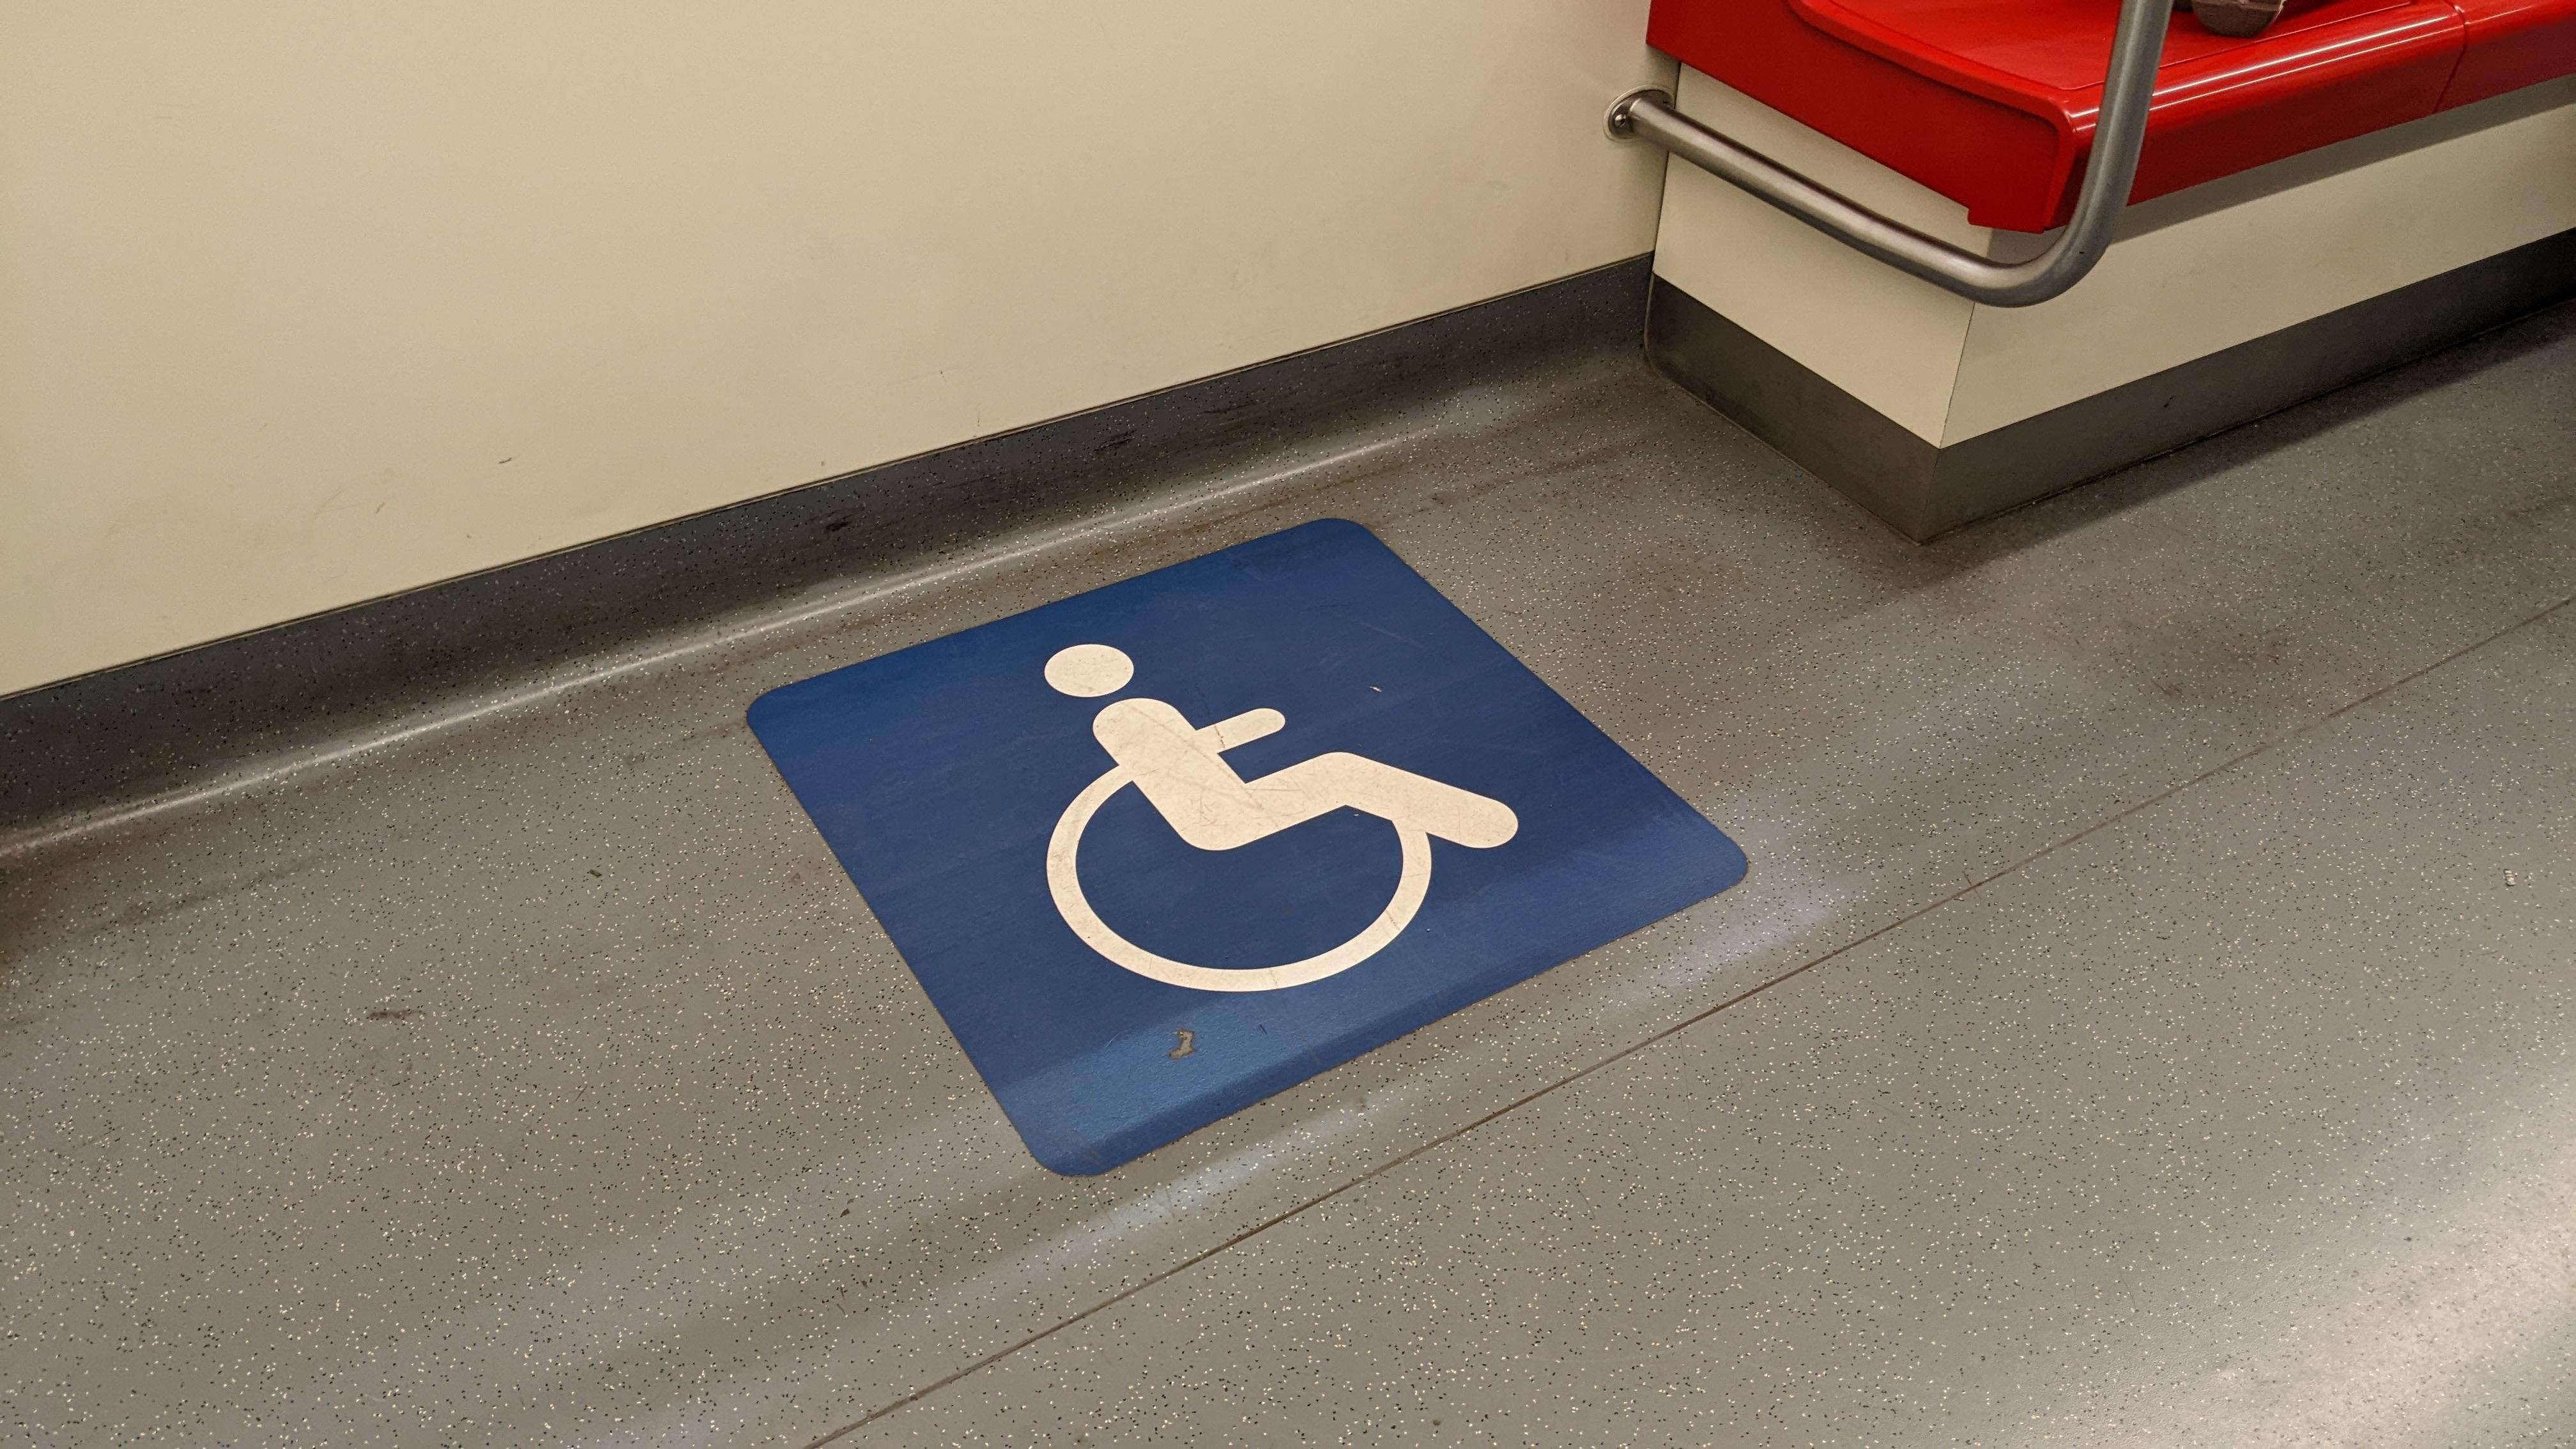handicapped symbol: (1039, 639, 1527, 1003)
